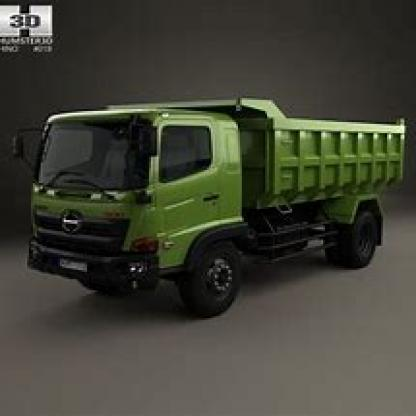dump_truck: (19, 81, 414, 320)
